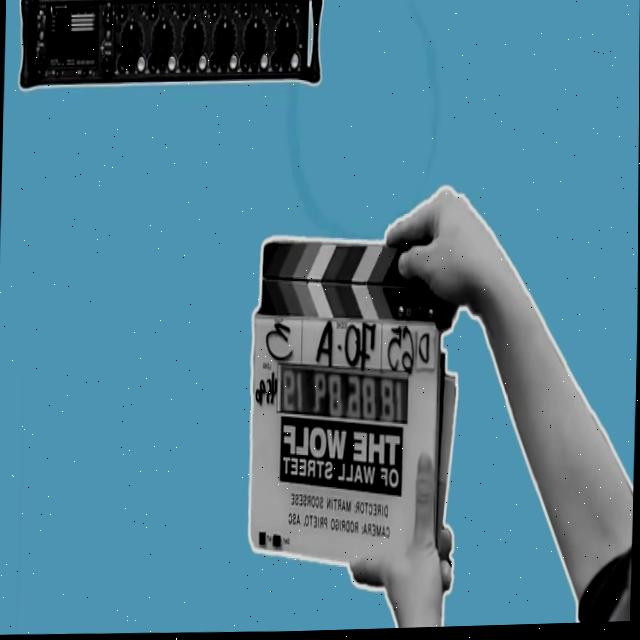Clapperboard: (244, 222, 464, 561)
